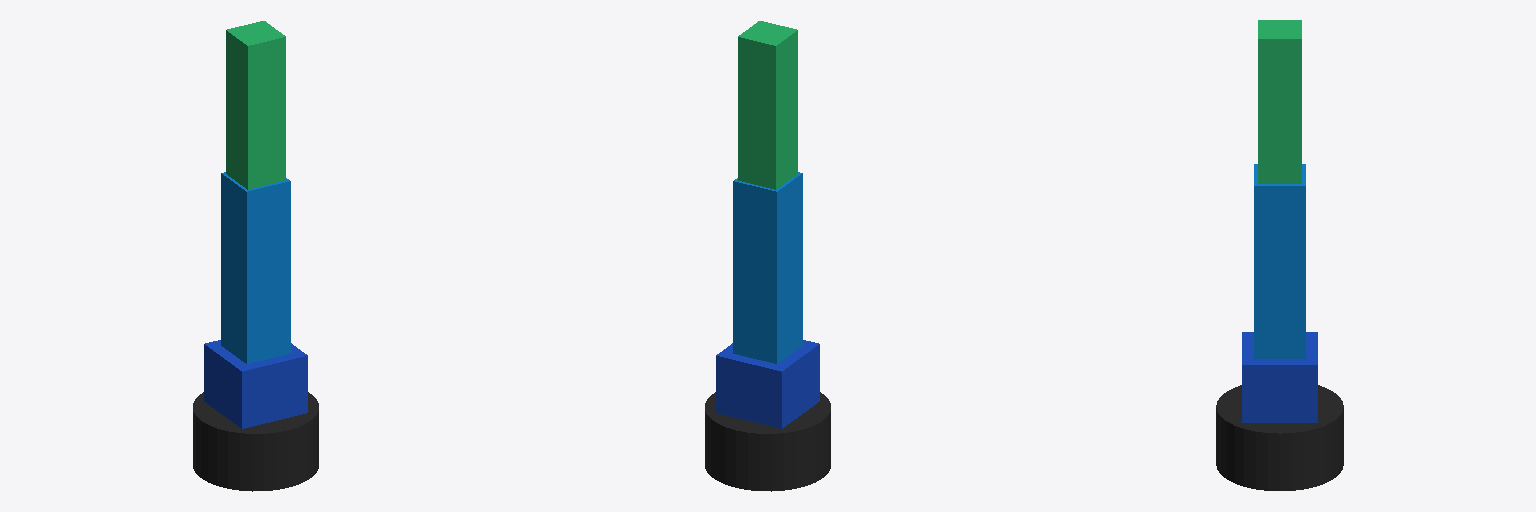
robot.urdf — devotics_arm:
<?xml version="1.0"?>

<robot name="devotics_arm">

    <!-- ===================================== -->
    <!-- BASE LINK -->
    <!-- ===================================== -->

    <link name="base_link">

        <visual>
            <origin xyz="0 0 0.05" rpy="0 0 0"/>

            <geometry>
                <cylinder radius="0.10" length="0.10"/>
            </geometry>

            <material name="base_color">
                <color rgba="0.20 0.20 0.20 1"/>
            </material>
        </visual>

    </link>


    <!-- ===================================== -->
    <!-- SHOULDER LINK -->
    <!-- ===================================== -->

    <link name="shoulder_link">

        <visual>
            <origin xyz="0 0 0.05" rpy="0 0 0"/>

            <geometry>
                <box size="0.12 0.12 0.10"/>
            </geometry>

            <material name="shoulder_color">
                <color rgba="0.15 0.35 0.80 1"/>
            </material>
        </visual>

    </link>


    <!-- ===================================== -->
    <!-- JOINT 1 - BASE ROTATION -->
    <!-- ===================================== -->

    <joint name="joint1" type="revolute">

        <parent link="base_link"/>
        <child link="shoulder_link"/>

        <origin xyz="0 0 0.10" rpy="0 0 0"/>

        <axis xyz="1 0 0"/>

        <limit
            lower="-3.14"
            upper="3.14"
            effort="20"
            velocity="1.0"
        />

    </joint>


    <!-- ===================================== -->
    <!-- UPPER ARM LINK -->
    <!-- ===================================== -->

    <link name="upper_arm_link">

        <visual>
            <origin xyz="0 0 0.15" rpy="0 0 0"/>

            <geometry>
                <box size="0.08 0.08 0.30"/>
            </geometry>

            <material name="upper_arm_color">
                <color rgba="0.10 0.55 0.85 1"/>
            </material>
        </visual>

    </link>


    <!-- ===================================== -->
    <!-- JOINT 2 - SHOULDER -->
    <!-- ===================================== -->

    <joint name="joint2" type="revolute">

        <parent link="shoulder_link"/>
        <child link="upper_arm_link"/>

        <origin xyz="0 0 0.10" rpy="0 0 0"/>

        <axis xyz="0 1 0"/>

        <limit
            lower="-1.57"
            upper="1.57"
            effort="20"
            velocity="1.0"
        />

    </joint>


    <!-- ===================================== -->
    <!-- FOREARM LINK -->
    <!-- ===================================== -->

    <link name="forearm_link">

        <visual>
            <origin xyz="0 0 0.125" rpy="0 0 0"/>

            <geometry>
                <box size="0.07 0.07 0.25"/>
            </geometry>

            <material name="forearm_color">
                <color rgba="0.20 0.75 0.45 1"/>
            </material>
        </visual>

    </link>


    <!-- ===================================== -->
    <!-- JOINT 3 - ELBOW -->
    <!-- ===================================== -->

    <joint name="joint3" type="revolute">

        <parent link="upper_arm_link"/>
        <child link="forearm_link"/>

        <origin xyz="0 0 0.30" rpy="0 0 0"/>

        <axis xyz="0 1 0"/>

        <limit
            lower="-2.0"
            upper="2.0"
            effort="15"
            velocity="1.0"
        />

    </joint>

</robot>

--- Render facts (derived) ---
3 views of the same robot in one strip: view 1: azimuth 30°, elevation 25°; view 2: azimuth 150°, elevation 25°; view 3: azimuth 270°, elevation 25° (orthographic).
Robot: devotics_arm — 4 links, 3 joints (3 revolute); root link base_link; default pose: all joints at 0.
Links seen in each view (by area): view 1: upper_arm_link, forearm_link, base_link, shoulder_link; view 2: upper_arm_link, forearm_link, base_link, shoulder_link; view 3: base_link, upper_arm_link, forearm_link, shoulder_link.
Boxes of the visible links, bbox=[...] form: upper_arm_link: bbox=[221, 172, 290, 363]; forearm_link: bbox=[226, 21, 285, 189]; base_link: bbox=[193, 392, 318, 491]; shoulder_link: bbox=[204, 340, 307, 428]; upper_arm_link: bbox=[733, 172, 802, 363]; forearm_link: bbox=[738, 21, 797, 189]; base_link: bbox=[705, 392, 830, 491]; shoulder_link: bbox=[716, 340, 819, 428]; base_link: bbox=[1216, 385, 1343, 490]; upper_arm_link: bbox=[1254, 164, 1305, 358]; forearm_link: bbox=[1258, 20, 1301, 183]; shoulder_link: bbox=[1242, 332, 1317, 422].
Size in the robot's own frame: 0.2 by 0.2 by 0.75 metres.
Geometry: primitives only (box / cylinder / sphere), no mesh files.
